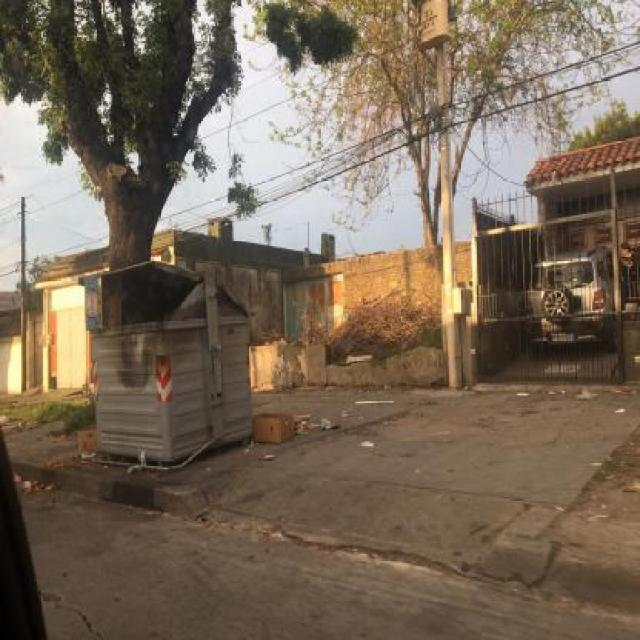garbage: (240, 398, 358, 460), (277, 286, 437, 330), (34, 388, 100, 484), (0, 397, 36, 466), (17, 469, 68, 499)
